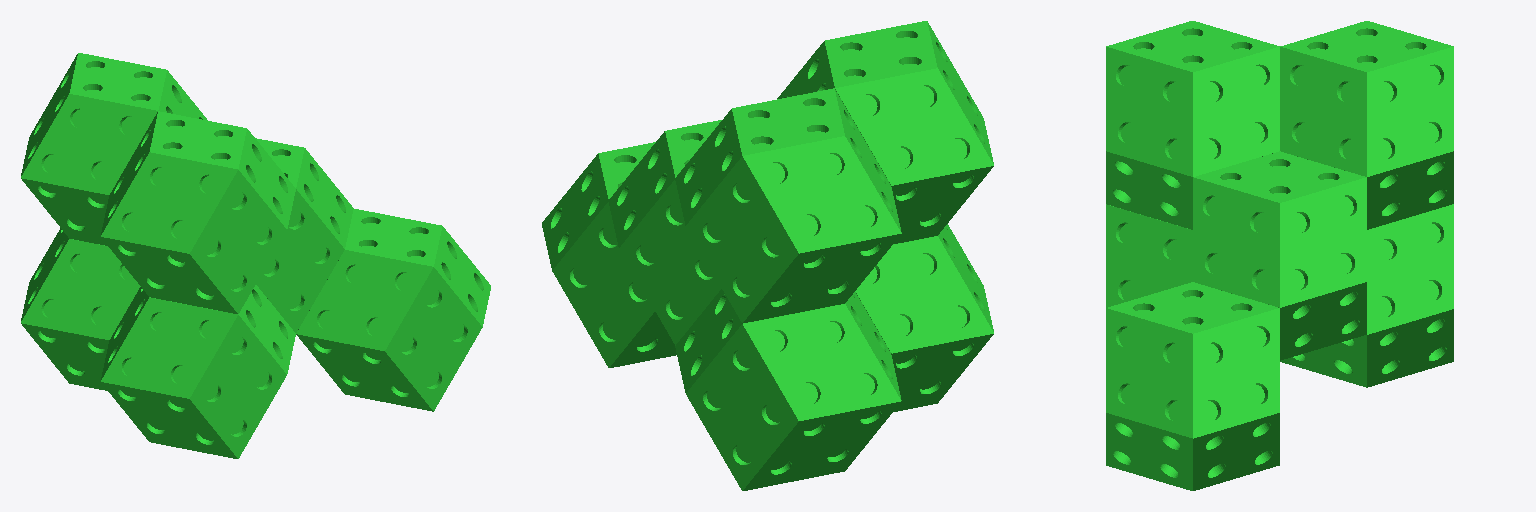
The robot description file, URDF, robot "robot":
<robot name = "robot">
    <link name="Central">
        <inertial>
            <origin xyz="0 0 0" rpy="0 0 0.62"/>
            <mass value="1.0" />
            <inertia ixx="100" ixy="0" ixz="0" iyy="100" iyz="0" izz="100" />
        </inertial>
        <visual>
            <origin xyz="0 0 0" rpy="0 0 0.62"/>
            <geometry>
                <mesh filename="RhomDoDeca_mm v9.stl" scale="0.1 0.1 0.1" />
            </geometry>
            <material name="Sensor">
                <color rgba="0.239 0.875 0.282 1.0"/>
            </material>
        </visual>
        <collision>
            <origin xyz="0 0 0" rpy="0 0 0"/>
            <geometry>
                <mesh filename="RhomDoDeca_mm v9.stl" scale="0.1 0.1 0.1" />
            </geometry>
        </collision>
    </link>
    <joint name="Central_FrontOne" type="fixed">
       <parent link="Central"/>
       <child  link="FrontOne"/>
       <origin rpy="0 0 0" xyz="0 4.086 0" />
       <axis xyz="0 1 0"/>
       <limit effort="0.0" lower="-3.14159" upper="3.14159" velocity="0.0"/>
    </joint>
    <link name="FrontOne">
        <inertial>
            <origin xyz="0 0 0" rpy="0 0 0.62"/>
            <mass value="1.0" />
            <inertia ixx="100" ixy="0" ixz="0" iyy="100" iyz="0" izz="100" />
        </inertial>
        <visual>
            <origin xyz="0 0 0" rpy="0 0 0.62"/>
            <geometry>
                <mesh filename="RhomDoDeca_mm v9.stl" scale="0.1 0.1 0.1" />
            </geometry>
            <material name="Sensor">
                <color rgba="0.239 0.875 0.282 1.0"/>
            </material>
        </visual>
        <collision>
            <origin xyz="0 0 0" rpy="0 0 0"/>
            <geometry>
                <mesh filename="RhomDoDeca_mm v9.stl" scale="0.1 0.1 0.1" />
            </geometry>
        </collision>
    </link>
    <joint name="Central_UpperOne" type="fixed">
       <parent link="Central"/>
       <child  link="UpperOne"/>
       <origin rpy="0 0 0" xyz="0 0 4.086" />
       <axis xyz="0 0 1"/>
       <limit effort="0.0" lower="-3.14159" upper="3.14159" velocity="0.0"/>
    </joint>
    <link name="UpperOne">
        <inertial>
            <origin xyz="0 0 0" rpy="0 0 0.62"/>
            <mass value="1.0" />
            <inertia ixx="100" ixy="0" ixz="0" iyy="100" iyz="0" izz="100" />
        </inertial>
        <visual>
            <origin xyz="0 0 0" rpy="0 0 0.62"/>
            <geometry>
                <mesh filename="RhomDoDeca_mm v9.stl" scale="0.1 0.1 0.1" />
            </geometry>
            <material name="Sensor">
                <color rgba="0.239 0.875 0.282 1.0"/>
            </material>
        </visual>
        <collision>
            <origin xyz="0 0 0" rpy="0 0 0"/>
            <geometry>
                <mesh filename="RhomDoDeca_mm v9.stl" scale="0.1 0.1 0.1" />
            </geometry>
        </collision>
    </link>
    <joint name="UpperOne_UpperTwo" type="fixed">
       <parent link="UpperOne"/>
       <child  link="UpperTwo"/>
       <origin rpy="0 0 0" xyz="0 4.086 0" />
       <axis xyz="0 1 0"/>
       <limit effort="0.0" lower="-3.14159" upper="3.14159" velocity="0.0"/>
    </joint>
    <link name="UpperTwo">
        <inertial>
            <origin xyz="0 0 0" rpy="0 0 0.62"/>
            <mass value="1.0" />
            <inertia ixx="100" ixy="0" ixz="0" iyy="100" iyz="0" izz="100" />
        </inertial>
        <visual>
            <origin xyz="0 0 0" rpy="0 0 0.62"/>
            <geometry>
                <mesh filename="RhomDoDeca_mm v9.stl" scale="0.1 0.1 0.1" />
            </geometry>
            <material name="Sensor">
                <color rgba="0.239 0.875 0.282 1.0"/>
            </material>
        </visual>
        <collision>
            <origin xyz="0 0 0" rpy="0 0 0"/>
            <geometry>
                <mesh filename="RhomDoDeca_mm v9.stl" scale="0.1 0.1 0.1" />
            </geometry>
        </collision>
    </link>
    <joint name="Central_Middle" type="fixed">
       <parent link="Central"/>
       <child  link="Middle"/>
       <origin rpy="0 0 0" xyz="2.88 2.043 2.043" />
       <axis xyz="1 1 1"/>
       <limit effort="0.0" lower="-3.14159" upper="3.14159" velocity="0.0"/>
    </joint>
    <link name="Middle">
        <inertial>
            <origin xyz="0 0 0" rpy="0 0 0.62"/>
            <mass value="1.0" />
            <inertia ixx="100" ixy="0" ixz="0" iyy="100" iyz="0" izz="100" />
        </inertial>
        <visual>
            <origin xyz="0 0 0" rpy="0 0 0.62"/>
            <geometry>
                <mesh filename="RhomDoDeca_mm v9.stl" scale="0.1 0.1 0.1" />
            </geometry>
            <material name="Sensor">
                <color rgba="0.239 0.875 0.282 1.0"/>
            </material>
        </visual>
        <collision>
            <origin xyz="0 0 0" rpy="0 0 0"/>
            <geometry>
                <mesh filename="RhomDoDeca_mm v9.stl" scale="0.1 0.1 0.1" />
            </geometry>
        </collision>
    </link>
    <joint name="Middle_LowerRight" type="fixed">
       <parent link="Middle"/>
       <child  link="LowerRight"/>
       <origin rpy="0 0 0" xyz="2.88 -2.043 -2.043" />
       <axis xyz="1 1 1"/>
       <limit effort="0.0" lower="-3.14159" upper="3.14159" velocity="0.0"/>
    </joint>
    <link name="LowerRight">
        <inertial>
            <origin xyz="0 0 0" rpy="0 0 0.62"/>
            <mass value="1.0" />
            <inertia ixx="100" ixy="0" ixz="0" iyy="100" iyz="0" izz="100" />
        </inertial>
        <visual>
            <origin xyz="0 0 0" rpy="0 0 0.62"/>
            <geometry>
                <mesh filename="RhomDoDeca_mm v9.stl" scale="0.1 0.1 0.1" />
            </geometry>
            <material name="Sensor">
                <color rgba="0.239 0.875 0.282 1.0"/>
            </material>
        </visual>
        <collision>
            <origin xyz="0 0 0" rpy="0 0 0"/>
            <geometry>
                <mesh filename="RhomDoDeca_mm v9.stl" scale="0.1 0.1 0.1" />
            </geometry>
        </collision>
    </link>
</robot>

--- Render facts (derived) ---
Views: 3 orthographic renders of the robot side by side, from view 1: azimuth 30°, elevation 25°; view 2: azimuth 150°, elevation 25°; view 3: azimuth 270°, elevation 25°.
Robot: robot — 6 links, 5 joints (5 fixed); root link Central; default pose: all joints at 0.
Links seen in each view (by area): view 1: UpperOne, LowerRight, Central, UpperTwo, FrontOne, Middle; view 2: UpperTwo, FrontOne, UpperOne, Central, LowerRight, Middle; view 3: LowerRight, UpperOne, UpperTwo, Middle, FrontOne, Central.
Boxes of the visible links, x1,y1,x2,y2 form: UpperOne: [101, 111, 295, 313]; LowerRight: [296, 209, 490, 411]; Central: [101, 285, 295, 458]; UpperTwo: [21, 53, 207, 245]; FrontOne: [21, 228, 140, 390]; Middle: [255, 138, 353, 332]; UpperTwo: [675, 88, 901, 323]; FrontOne: [675, 289, 901, 490]; UpperOne: [777, 21, 993, 243]; Central: [855, 224, 993, 411]; LowerRight: [542, 142, 676, 367]; Middle: [608, 120, 721, 345]; LowerRight: [1106, 282, 1279, 490]; UpperOne: [1106, 21, 1279, 229]; UpperTwo: [1280, 21, 1453, 229]; Middle: [1193, 151, 1366, 360]; FrontOne: [1280, 204, 1453, 387]; Central: [1106, 204, 1192, 307].
Size in the robot's own frame: 11.53 by 8.17 by 8.17 metres.
Meshes: 1 distinct files referenced, 6 mesh visuals loaded (1 binary STL).